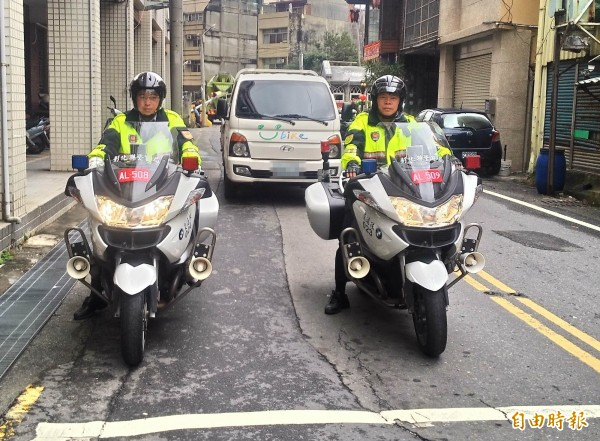helmet: (366, 76, 413, 105), (130, 72, 173, 99)
